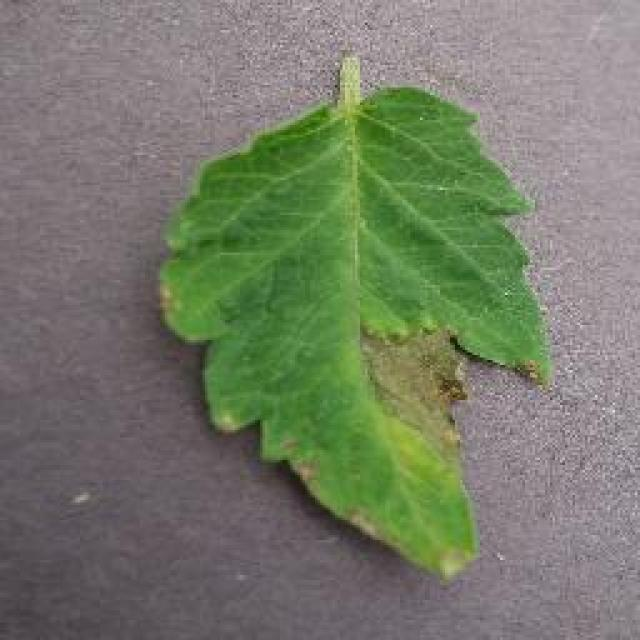Tomato___Late_blight: (160, 50, 552, 585)
